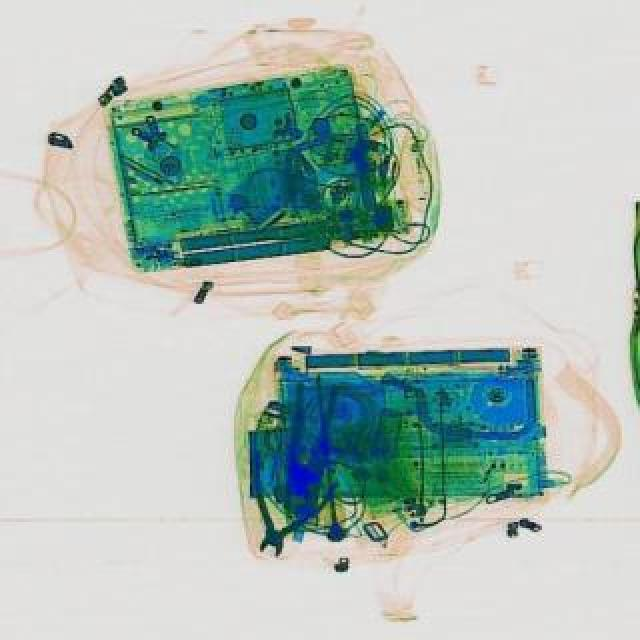wrench: (226, 450, 346, 568)
